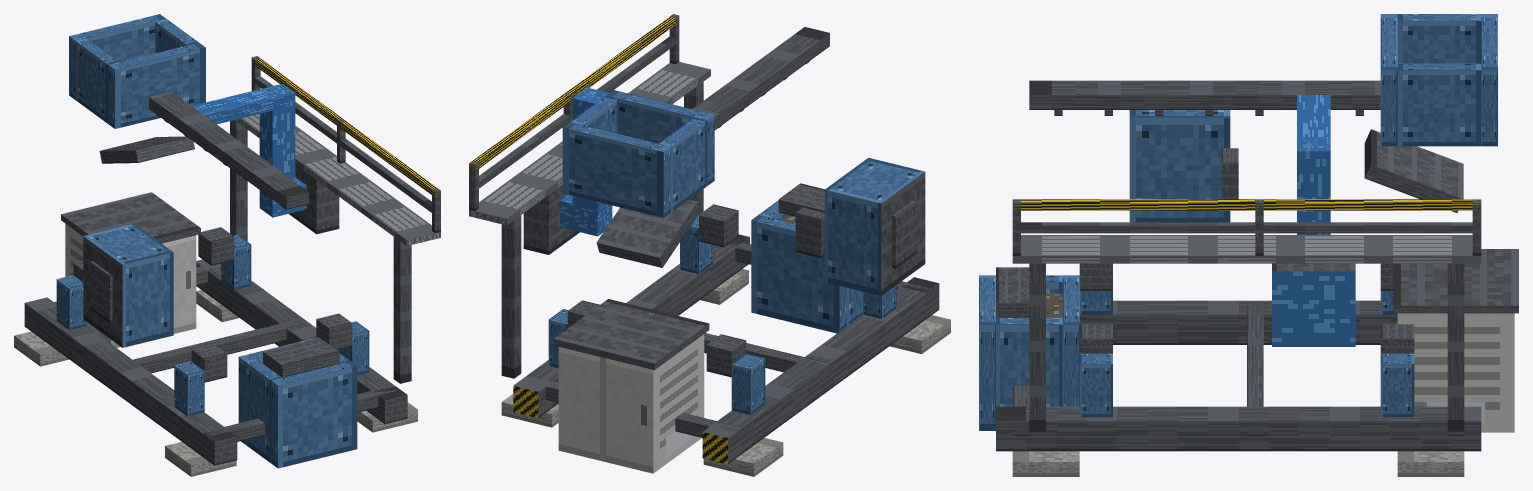
Rendered from washing_plant.obj.
3 views of the same model, side by side, from view 1: azimuth 30°, elevation 25°; view 2: azimuth 150°, elevation 25°; view 3: azimuth 270°, elevation 25° (orthographic). The views are drawn at different scales.
Parts seen in each view (by area): view 1: beam_r, gearbox, sump_b, hop_b, walk, leg, spray, beam_l, w_strut, cross, cab_roof, pad (+17 smaller); view 2: cabinet, beam_r, gearbox, hop_f, sump_f, cab_roof, walk, beam_l, leg, spray, pad, chute (+16 smaller); view 3: beam_l, walk, spray, gearbox, cabinet, beam_r, hop_l, w_flange, cab_roof, w_strut, leg, w_rail (+16 smaller).
Part boxes in pixels (<box>): beam_r: <box>24,297,237,465</box>; gearbox: <box>83,223,173,347</box>; sump_b: <box>271,361,357,468</box>; hop_b: <box>108,43,205,128</box>; walk: <box>235,114,440,245</box>; leg: <box>56,235,369,416</box>; spray: <box>149,91,309,209</box>; beam_l: <box>196,259,407,423</box>; w_strut: <box>230,120,411,383</box>; cross: <box>31,266,399,441</box>; cab_roof: <box>61,192,200,243</box>; pad: <box>14,290,417,476</box>; cabinet: <box>558,334,704,473</box>; beam_r: <box>702,277,939,464</box>; gearbox: <box>824,157,925,295</box>; hop_f: <box>562,122,670,217</box>; sump_f: <box>751,215,846,333</box>; cab_roof: <box>553,299,709,369</box>; walk: <box>469,62,710,225</box>; beam_l: <box>513,234,749,418</box>; leg: <box>548,214,896,414</box>; spray: <box>692,27,829,130</box>; pad: <box>501,269,950,476</box>; chute: <box>596,196,702,267</box>; beam_l: <box>996,406,1481,451</box>; walk: <box>1012,235,1481,263</box>; spray: <box>1029,80,1380,109</box>; gearbox: <box>1129,110,1230,222</box>; cabinet: <box>1397,313,1514,432</box>; beam_r: <box>1079,300,1397,344</box>; hop_l: <box>1397,63,1481,146</box>; w_flange: <box>1272,263,1355,346</box>; cab_roof: <box>1393,249,1518,313</box>; w_strut: <box>1029,263,1464,431</box>; leg: <box>1079,291,1414,417</box>; w_rail: <box>1013,199,1480,210</box>.
Size of the model in its own units: 3.03 by 3 by 4.03.
